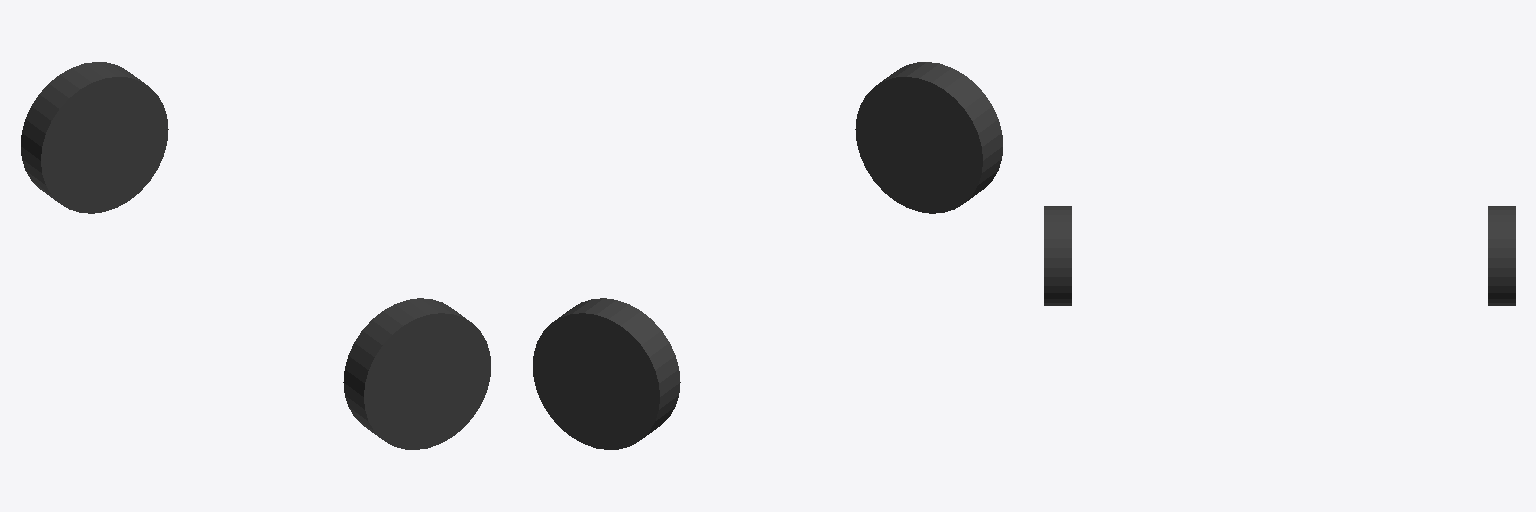
robot.urdf — turtlebot3_waffle_pi:
<?xml version="1.0" ?>
<robot name="turtlebot3_waffle_pi" xmlns:xacro="http://ros.org/wiki/xacro">
  <!-- <xacro:include filename="$(find turtlebot3_description)/urdf/common_properties.urdf"/> -->

  <!-- Init colour -->
  <material name="black">
      <color rgba="0.0 0.0 0.0 1.0"/>
  </material>

  <material name="dark">
    <color rgba="0.3 0.3 0.3 1.0"/>
  </material>

  <material name="light_black">
    <color rgba="0.4 0.4 0.4 1.0"/>
  </material>

  <material name="blue">
    <color rgba="0.0 0.0 0.8 1.0"/>
  </material>

  <material name="green">
    <color rgba="0.0 0.8 0.0 1.0"/>
  </material>

  <material name="grey">
    <color rgba="0.5 0.5 0.5 1.0"/>
  </material>

  <material name="orange">
    <color rgba="1.0 0.4235 0.0392 1.0"/>
  </material>

  <material name="brown">
    <color rgba="0.8706 0.8118 0.7647 1.0"/>
  </material>

  <material name="red">
    <color rgba="0.8 0.0 0.0 1.0"/>
  </material>

  <material name="white">
    <color rgba="1.0 1.0 1.0 1.0"/>
  </material>

  <link name="base_footprint"/>

  <joint name="base_joint" type="fixed">
    <parent link="base_footprint"/>
    <child link="base_link" />
    <origin xyz="0 0 0.010" rpy="0 0 0"/>
  </joint>

  <link name="base_link">
    <visual>
      <origin xyz="-0.064 0 0.0" rpy="0 0 0"/>
      <geometry>
        <mesh filename="package://followme_turtlebot3_gazebo/models/turtlebot3_common/meshes/waffle_pi_base.dae" scale="0.001 0.001 0.001"/>
      </geometry>
      <material name="light_black"/>
    </visual>

    <collision>
      <origin xyz="-0.064 0 0.047" rpy="0 0 0"/>
      <geometry>
        <box size="0.266 0.266 0.094"/>
      </geometry>
    </collision>

    <inertial>
      <origin xyz="0 0 0" rpy="0 0 0"/>
      <mass value="1.3729096e+00"/>
      <inertia ixx="8.7002718e-03" ixy="-4.7576583e-05" ixz="1.1160499e-04"
               iyy="8.6195418e-03" iyz="-3.5422299e-06"
               izz="1.4612727e-02" />
    </inertial>
  </link>

  <joint name="wheel_left_joint" type="continuous">
    <parent link="base_link"/>
    <child link="wheel_left_link"/>
    <origin xyz="0.0 0.144 0.023" rpy="-1.57 0 0"/>
    <axis xyz="0 0 1"/>
  </joint>

  <link name="wheel_left_link">
    <visual>
      <origin xyz="0 0 0" rpy="1.57 0 0"/>
      <geometry>
        <mesh filename="package://followme_turtlebot3_gazebo/models/turtlebot3_common/meshes/tire.dae" scale="0.001 0.001 0.001"/>
      </geometry>
      <material name="dark"/>
    </visual>

    <collision>
      <origin xyz="0 0 0" rpy="0 0 0"/>
      <geometry>
        <cylinder length="0.018" radius="0.033"/>
      </geometry>
    </collision>

    <inertial>
      <origin xyz="0 0 0" />
      <mass value="2.8498940e-02" />
      <inertia ixx="1.1175580e-05" ixy="-4.2369783e-11" ixz="-5.9381719e-09"
               iyy="1.1192413e-05" iyz="-1.4400107e-11"
               izz="2.0712558e-05" />
      </inertial>
  </link>

  <joint name="wheel_right_joint" type="continuous">
    <parent link="base_link"/>
    <child link="wheel_right_link"/>
    <origin xyz="0.0 -0.144 0.023" rpy="-1.57 0 0"/>
    <axis xyz="0 0 1"/>
  </joint>

  <link name="wheel_right_link">
    <visual>
      <origin xyz="0 0 0" rpy="1.57 0 0"/>
      <geometry>
        <mesh filename="package://followme_turtlebot3_gazebo/models/turtlebot3_common/meshes/tire.dae" scale="0.001 0.001 0.001"/>
      </geometry>
      <material name="dark"/>
    </visual>

    <collision>
      <origin xyz="0 0 0" rpy="0 0 0"/>
      <geometry>
        <cylinder length="0.018" radius="0.033"/>
      </geometry>
    </collision>

    <inertial>
      <origin xyz="0 0 0" />
      <mass value="2.8498940e-02" />
      <inertia ixx="1.1175580e-05" ixy="-4.2369783e-11" ixz="-5.9381719e-09"
               iyy="1.1192413e-05" iyz="-1.4400107e-11"
               izz="2.0712558e-05" />
      </inertial>
  </link>

  <joint name="caster_back_right_joint" type="fixed">
    <parent link="base_link"/>
    <child link="caster_back_right_link"/>
    <origin xyz="-0.177 -0.064 -0.004" rpy="-1.57 0 0"/>
  </joint>

  <link name="caster_back_right_link">
    <collision>
      <origin xyz="0 0.001 0" rpy="0 0 0"/>
      <geometry>
        <box size="0.030 0.009 0.020"/>
      </geometry>
    </collision>

    <inertial>
      <origin xyz="0 0 0" />
      <mass value="0.005" />
      <inertia ixx="0.001" ixy="0.0" ixz="0.0"
               iyy="0.001" iyz="0.0"
               izz="0.001" />
    </inertial>
  </link>

  <joint name="caster_back_left_joint" type="fixed">
    <parent link="base_link"/>
    <child link="caster_back_left_link"/>
    <origin xyz="-0.177 0.064 -0.004" rpy="-1.57 0 0"/>
  </joint>

  <link name="caster_back_left_link">
    <collision>
      <origin xyz="0 0.001 0" rpy="0 0 0"/>
      <geometry>
        <box size="0.030 0.009 0.020"/>
      </geometry>
    </collision>

    <inertial>
      <origin xyz="0 0 0" />
      <mass value="0.005" />
      <inertia ixx="0.001" ixy="0.0" ixz="0.0"
               iyy="0.001" iyz="0.0"
               izz="0.001" />
    </inertial>
  </link>

  <joint name="imu_joint" type="fixed">
    <parent link="base_link"/>
    <child link="imu_link"/>
    <origin xyz="0.0 0 0.068" rpy="0 0 0"/>
  </joint>

  <link name="imu_link"/>

  <joint name="scan_joint" type="fixed">
    <parent link="base_link"/>
    <child link="base_scan"/>
    <origin xyz="-0.064 0 0.122" rpy="0 0 0"/>
  </joint>

  <link name="base_scan">
    <visual>
      <origin xyz="0 0 0.0" rpy="0 0 0"/>
      <geometry>
        <mesh filename="package://followme_turtlebot3_gazebo/models/turtlebot3_common/meshes/lds.dae" scale="0.001 0.001 0.001"/>
      </geometry>
      <material name="dark"/>
    </visual>

    <collision>
      <origin xyz="0.015 0 -0.0065" rpy="0 0 0"/>
      <geometry>
        <cylinder length="0.0315" radius="0.055"/>
      </geometry>
    </collision>

    <inertial>
      <mass value="0.114" />
      <origin xyz="0 0 0" />
      <inertia ixx="0.001" ixy="0.0" ixz="0.0"
               iyy="0.001" iyz="0.0"
               izz="0.001" />
    </inertial>
  </link>

  <joint name="camera_joint" type="fixed">
    <origin xyz="0.073 -0.011 0.084" rpy="0 0 0"/>
    <parent link="base_link"/>
    <child link="camera_link"/>
  </joint>

  <link name="camera_link">
    <collision>
      <origin xyz="0.005 0.011 0.013" rpy="0 0 0"/>
      <geometry>
        <box size="0.015 0.030 0.027"/>
      </geometry>
    </collision>
  </link>

  <joint name="camera_rgb_joint" type="fixed">
    <origin xyz="0.003 0.011 0.009" rpy="0 0 0"/>
    <parent link="camera_link"/>
    <child link="camera_rgb_frame"/>
  </joint>
  <link name="camera_rgb_frame"/>

  <joint name="camera_rgb_optical_joint" type="fixed">
    <origin xyz="0 0 0" rpy="-1.57 0 -1.57"/>
    <parent link="camera_rgb_frame"/>
    <child link="camera_rgb_optical_frame"/>
  </joint>
  <link name="camera_rgb_optical_frame"/>

</robot>

--- Render facts (derived) ---
The picture shows the robot from 3 angles, left to right: view 1: azimuth 30°, elevation 25°; view 2: azimuth 150°, elevation 25°; view 3: azimuth 270°, elevation 25°; orthographic projection.
Robot: turtlebot3_waffle_pi — 11 links, 10 joints (2 continuous, 8 fixed); root link base_footprint; default pose: every joint at zero.
Links seen in each view (by area): view 1: wheel_left_link, wheel_right_link; view 2: wheel_left_link, wheel_right_link; view 3: wheel_left_link, wheel_right_link.
Boxes of the visible links, x1,y1,x2,y2 form: wheel_left_link: (21,62,168,213); wheel_right_link: (343,298,490,449); wheel_left_link: (533,298,680,449); wheel_right_link: (855,62,1002,213); wheel_left_link: (1488,206,1515,305); wheel_right_link: (1044,206,1071,305).
Size in the robot's own frame: 0.0657 by 0.3062 by 0.0657 metres.
Meshes: 3 distinct files referenced, 2 mesh visuals loaded (1 Collada DAE); not drawn: 2 (reference not matched to a file when rendering).